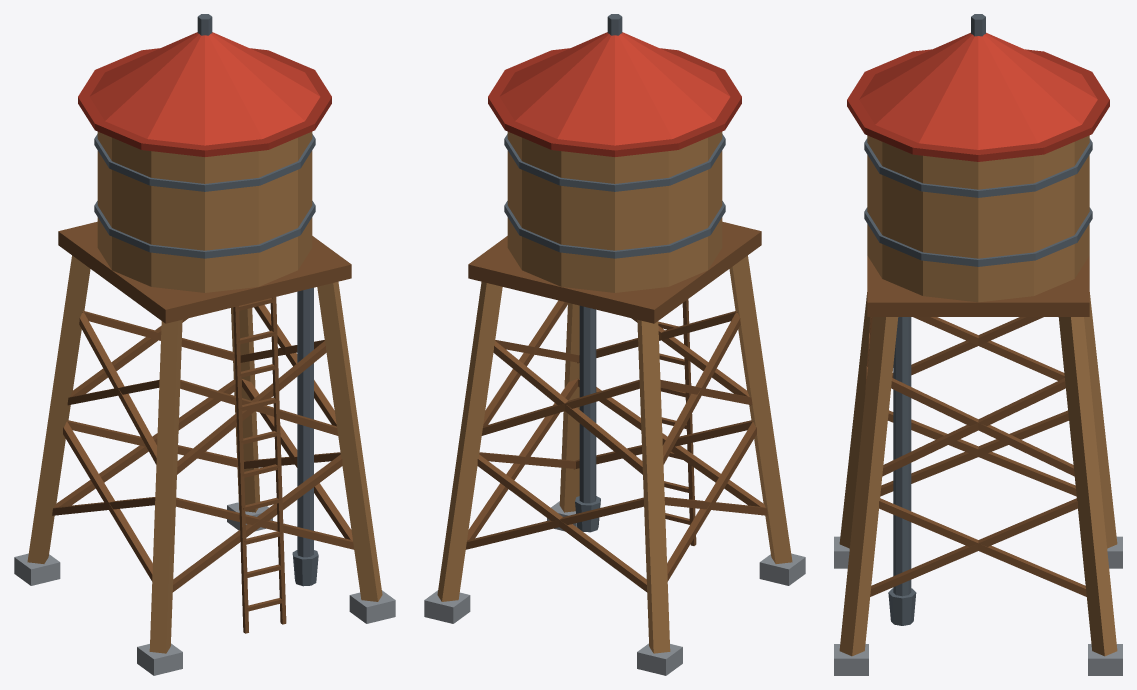
File: prop_water_tower_v01.glb
3 renders of one model, left to right at view 1: azimuth 30°, elevation 25°; view 2: azimuth 150°, elevation 25°; view 3: azimuth 270°, elevation 25°, orthographic. The views are drawn at different scales.
Visible parts, largest first — view 1: prop_water_tower_v01; view 2: prop_water_tower_v01; view 3: prop_water_tower_v01.
Part boxes in pixels (x1,y1,x2,y2): prop_water_tower_v01: [14, 14, 395, 675]; prop_water_tower_v01: [424, 14, 805, 675]; prop_water_tower_v01: [834, 14, 1122, 675].
Size of the model in its own units: 4.55 by 10.4 by 4.55.
